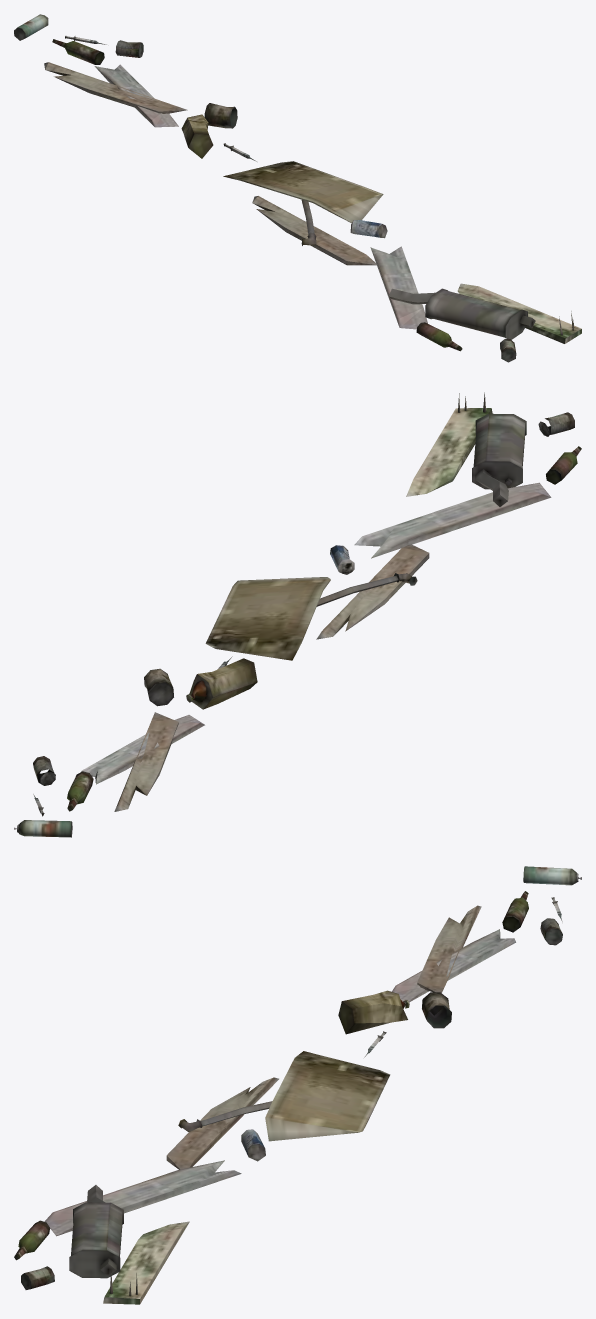
The model's file is garbage256_composite001a.glb.
3 renders of one model, top to bottom at view 1: azimuth 30°, elevation 25°; view 2: azimuth 150°, elevation 25°; view 3: azimuth 330°, elevation 25°, orthographic. The views are drawn at different scales.
Parts seen in each view (by area): view 1: 0_garbage001a_01; view 2: 0_garbage001a_01; view 3: 0_garbage001a_01.
Part boxes in pixels (x1=…): 0_garbage001a_01: x1=14, y1=14, x2=581, y2=362; 0_garbage001a_01: x1=14, y1=392, x2=581, y2=837; 0_garbage001a_01: x1=14, y1=866, x2=581, y2=1304.
Bounding box in the file's own units: 1.05 × 0.1923 × 6.23.
1 material, 1 textured.
